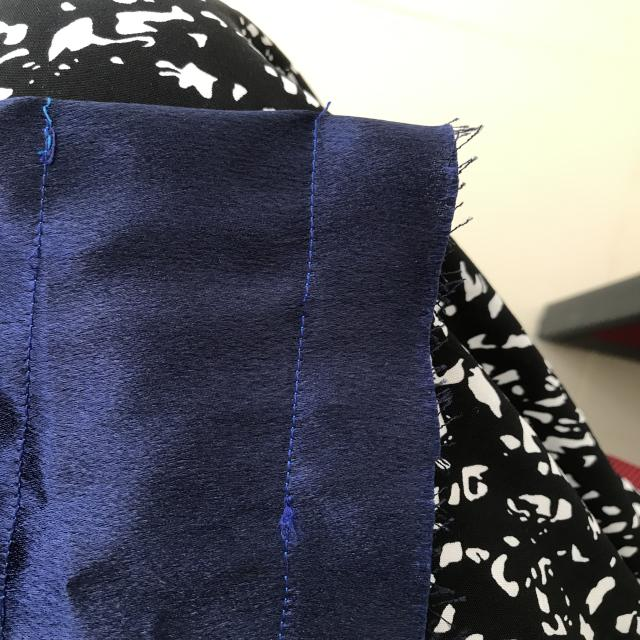skip: (15, 236, 77, 286)
